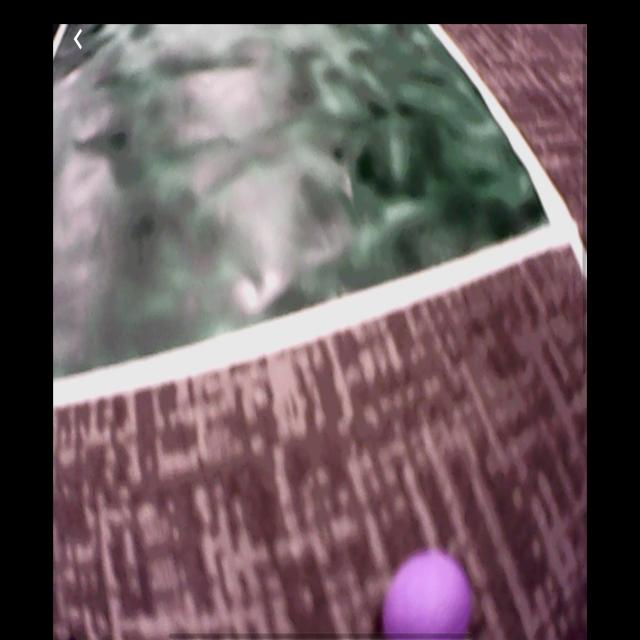ball: (384, 554, 475, 640)
